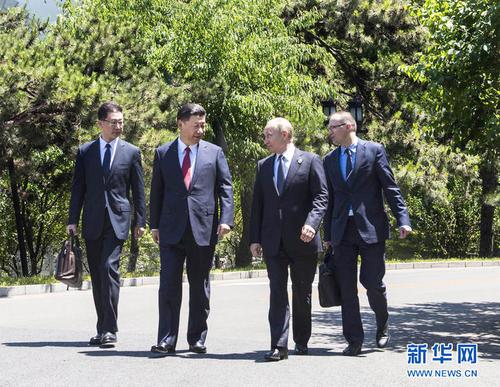up: (314, 101, 413, 354), (241, 103, 328, 361), (149, 93, 233, 358), (66, 93, 142, 354)
